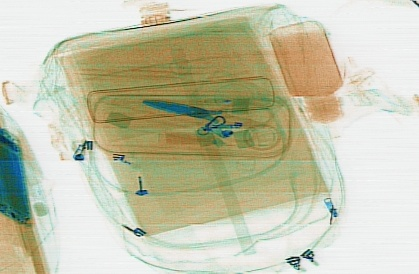scissors: (140, 95, 273, 149)
